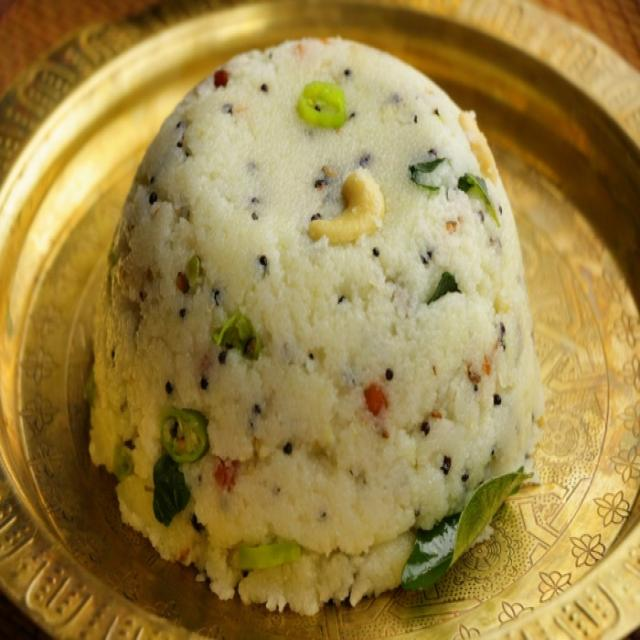UPMA: (84, 34, 544, 610)
